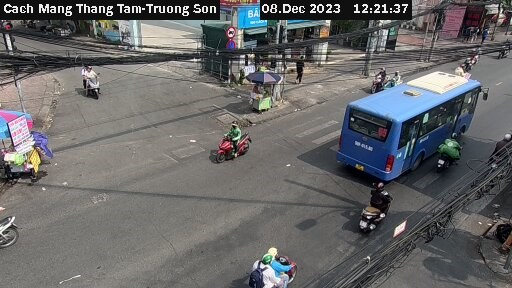bus: (331, 71, 481, 180)
motorbike: (67, 62, 134, 105), (349, 179, 402, 232), (241, 243, 303, 286), (206, 122, 259, 169), (436, 132, 474, 173), (1, 204, 23, 254), (367, 70, 387, 87)
